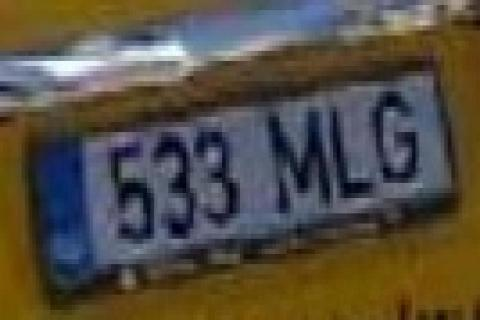LicensePlate: (22, 62, 470, 291)
